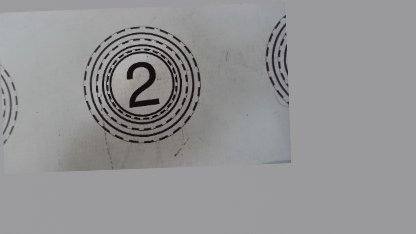2r: (77, 25, 202, 145)
